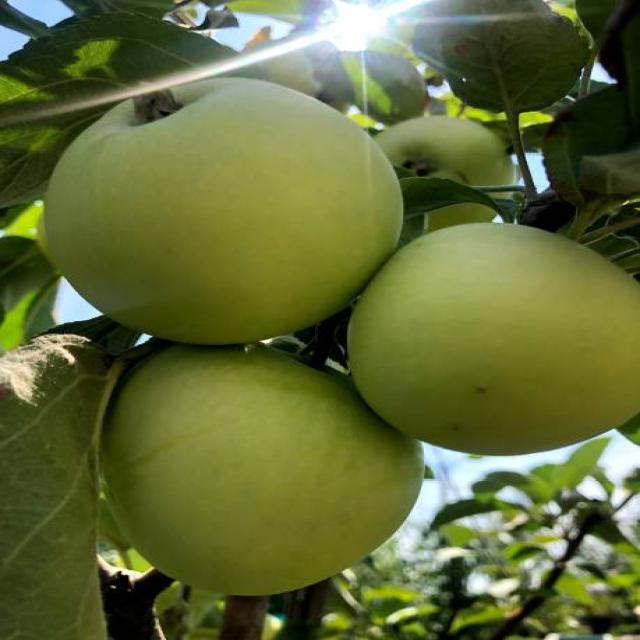Unripe: (40, 78, 404, 344), (98, 344, 427, 599)
